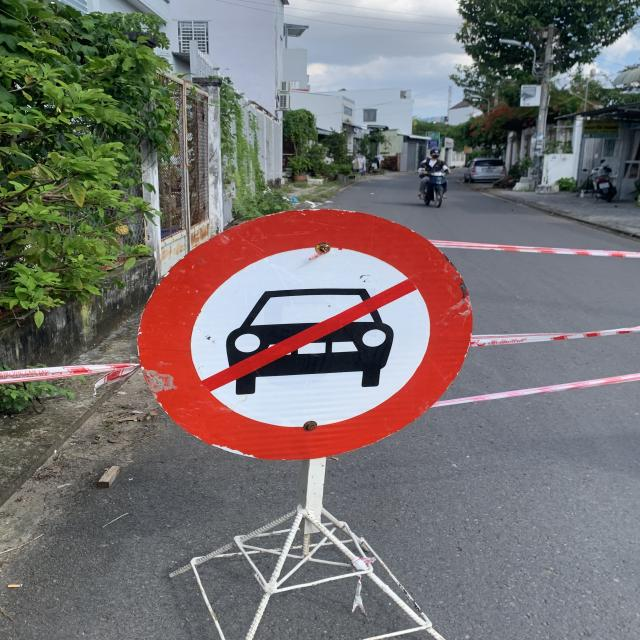Cam_O_To: (135, 206, 473, 463)
